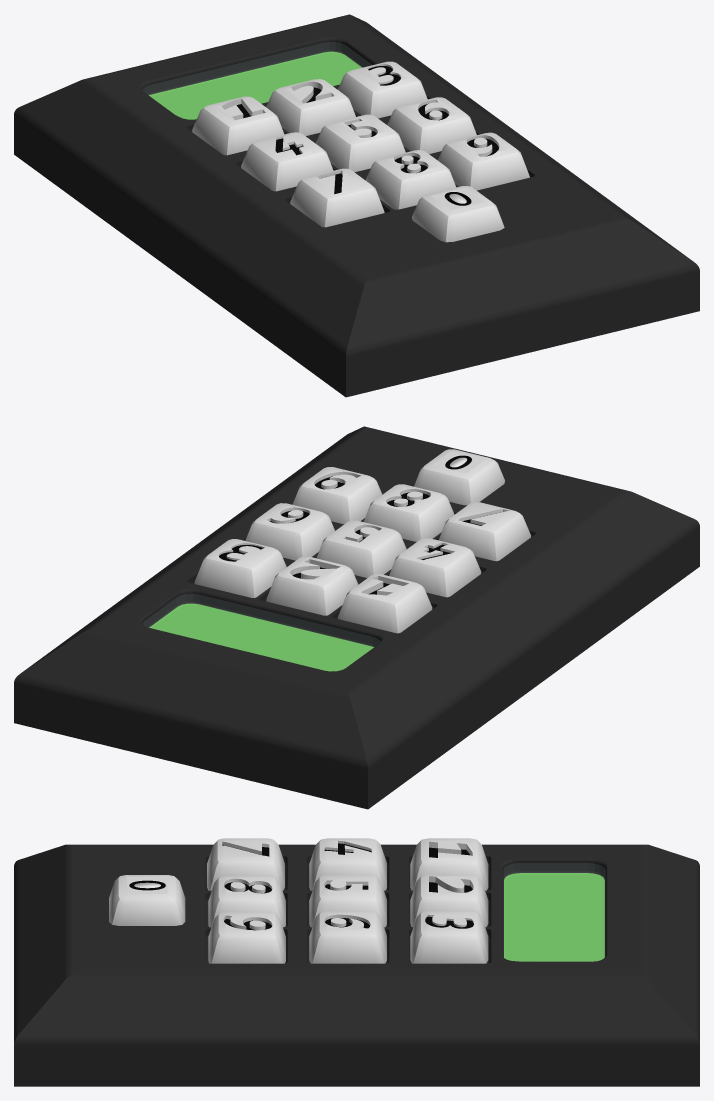
Rendered from security_key_pad.glb.
The picture shows the model from 3 angles, top to bottom: view 1: azimuth 30°, elevation 25°; view 2: azimuth 150°, elevation 25°; view 3: azimuth 270°, elevation 25°; orthographic projection. The views are drawn at different scales.
Visible parts, largest first — view 1: MainBody, 7_WhiteCaps_0, 9_WhiteCaps_0, 5.001_WhiteCaps_0, 1_WhiteCaps_0, 4_WhiteCaps_0, 5_WhiteCaps_0, 8_WhiteCaps_0, 2_WhiteCaps_0, 6_WhiteCaps_0, 3_WhiteCaps_0; view 2: MainBody, 1_WhiteCaps_0, 2_WhiteCaps_0, 3_WhiteCaps_0, 7_WhiteCaps_0, 4_WhiteCaps_0, 5_WhiteCaps_0, 8_WhiteCaps_0, 5.001_WhiteCaps_0, 6_WhiteCaps_0, 9_WhiteCaps_0; view 3: MainBody, 3_WhiteCaps_0, 6_WhiteCaps_0, 9_WhiteCaps_0, 5.001_WhiteCaps_0, 7_WhiteCaps_0, 4_WhiteCaps_0, 2_WhiteCaps_0, 1_WhiteCaps_0, 5_WhiteCaps_0, 8_WhiteCaps_0.
Part boxes in pixels (x1,y1,x2,y2): MainBody: (14, 14, 699, 397); 7_WhiteCaps_0: (290, 168, 384, 227); 9_WhiteCaps_0: (438, 132, 529, 190); 5.001_WhiteCaps_0: (412, 186, 504, 242); 1_WhiteCaps_0: (192, 96, 284, 155); 4_WhiteCaps_0: (241, 132, 333, 191); 5_WhiteCaps_0: (315, 114, 405, 172); 8_WhiteCaps_0: (365, 150, 456, 209); 2_WhiteCaps_0: (266, 79, 355, 136); 6_WhiteCaps_0: (387, 97, 476, 153); 3_WhiteCaps_0: (338, 61, 427, 118); MainBody: (14, 426, 699, 809); 1_WhiteCaps_0: (338, 574, 432, 633); 2_WhiteCaps_0: (266, 556, 358, 615); 3_WhiteCaps_0: (194, 539, 286, 597); 7_WhiteCaps_0: (439, 502, 530, 561); 4_WhiteCaps_0: (389, 538, 481, 597); 5_WhiteCaps_0: (316, 520, 406, 577); 8_WhiteCaps_0: (364, 484, 454, 541); 5.001_WhiteCaps_0: (414, 449, 504, 505); 6_WhiteCaps_0: (245, 503, 334, 560); 9_WhiteCaps_0: (292, 467, 382, 524); MainBody: (14, 844, 699, 1086); 3_WhiteCaps_0: (410, 910, 488, 963); 6_WhiteCaps_0: (309, 911, 386, 963); 9_WhiteCaps_0: (208, 911, 285, 963); 5.001_WhiteCaps_0: (109, 875, 185, 925); 7_WhiteCaps_0: (207, 838, 284, 890); 4_WhiteCaps_0: (309, 838, 386, 890); 2_WhiteCaps_0: (410, 874, 488, 927); 1_WhiteCaps_0: (410, 838, 488, 890); 5_WhiteCaps_0: (309, 875, 386, 927); 8_WhiteCaps_0: (208, 876, 285, 927).
Size of the model in its own units: 0.1524 by 0.0445 by 0.2474.
5 materials, 1 textured.
